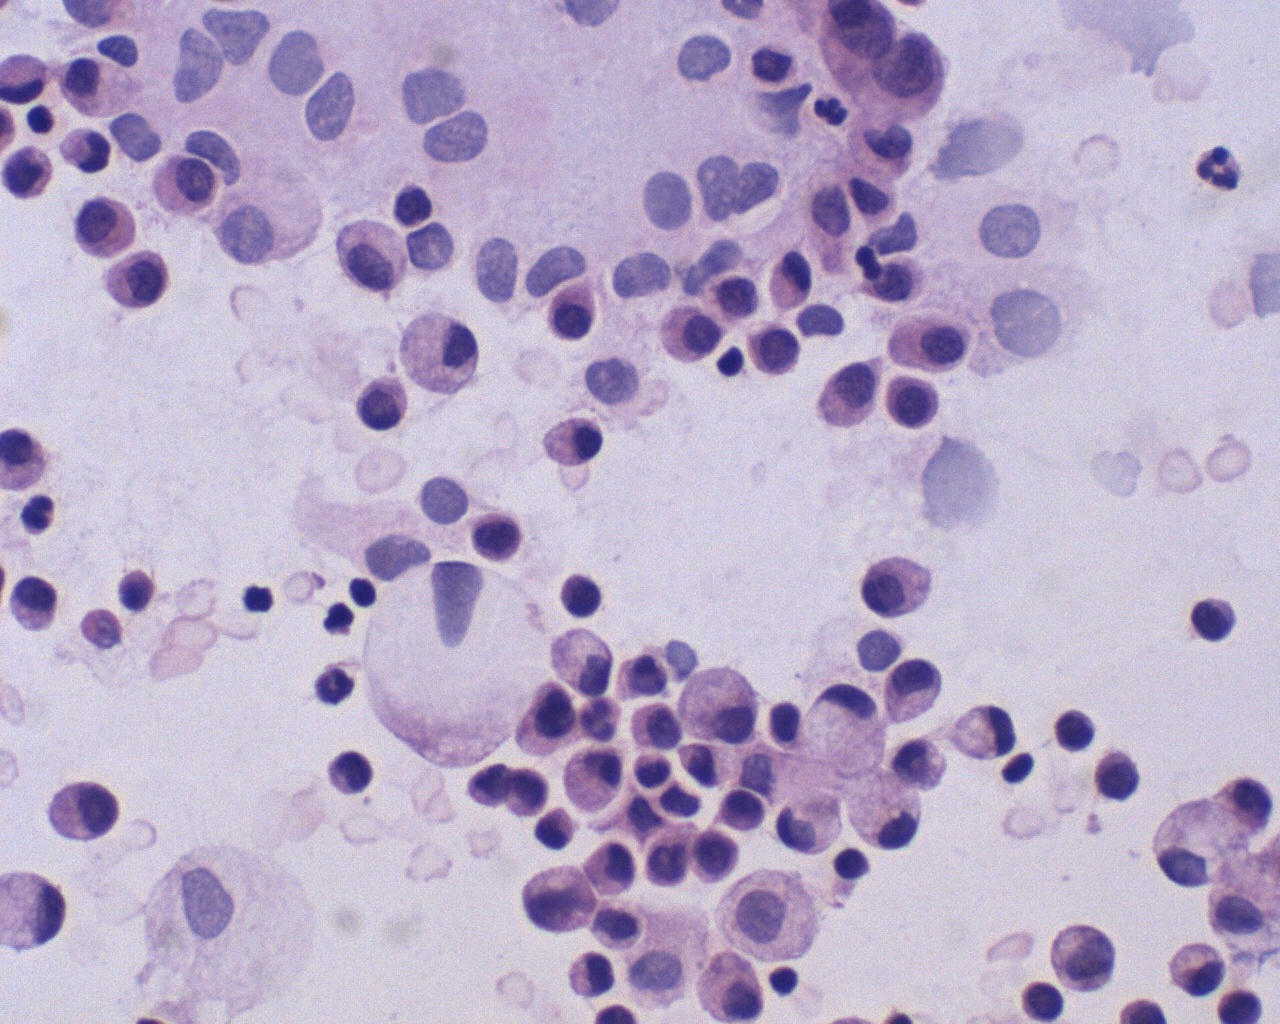ab: (350, 372, 414, 433), (744, 319, 806, 380), (465, 507, 529, 565), (1090, 747, 1149, 805), (689, 828, 744, 886)
histo: (357, 563, 550, 774), (1149, 793, 1254, 889), (390, 306, 484, 402), (797, 682, 888, 779), (843, 763, 926, 850), (674, 664, 763, 744)
lymph: (342, 571, 382, 611)
meso: (887, 307, 973, 380), (859, 540, 933, 622), (44, 778, 127, 846), (148, 152, 223, 220), (70, 189, 138, 262), (655, 303, 724, 366)
neutro: (1188, 132, 1251, 201), (807, 86, 858, 132), (315, 659, 359, 711), (17, 488, 60, 541)
